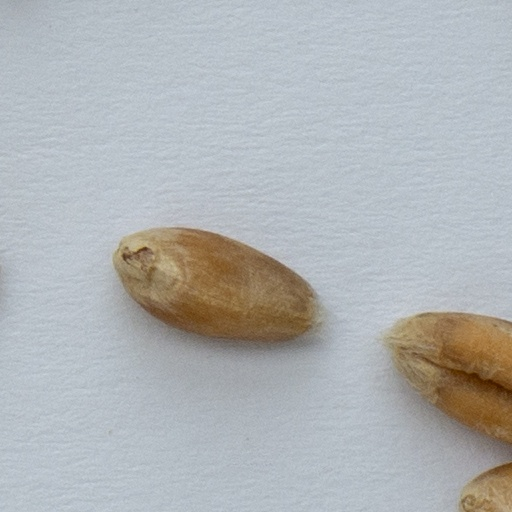Wheat-grain: (108, 225, 328, 346), (374, 314, 511, 451), (452, 461, 511, 511)
